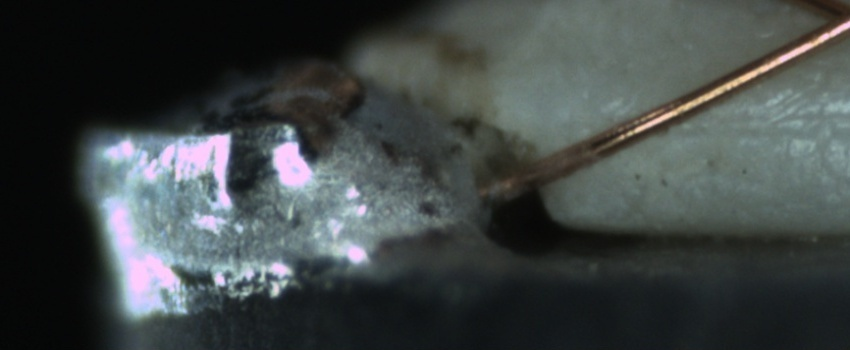CL: (805, 0, 850, 45)
DL: (687, 84, 850, 150)
